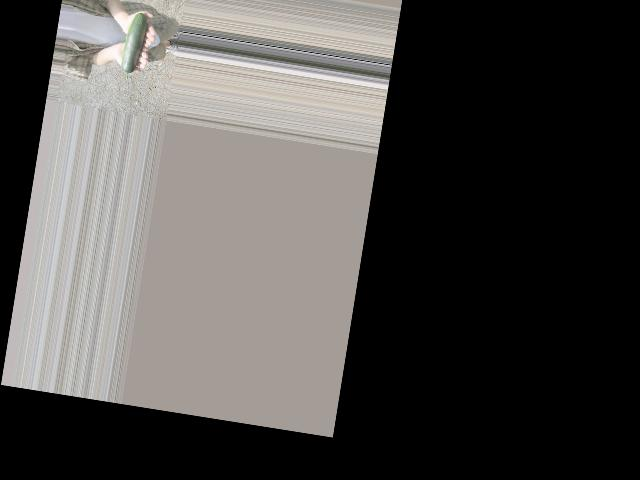cucumber: (119, 12, 149, 82)
